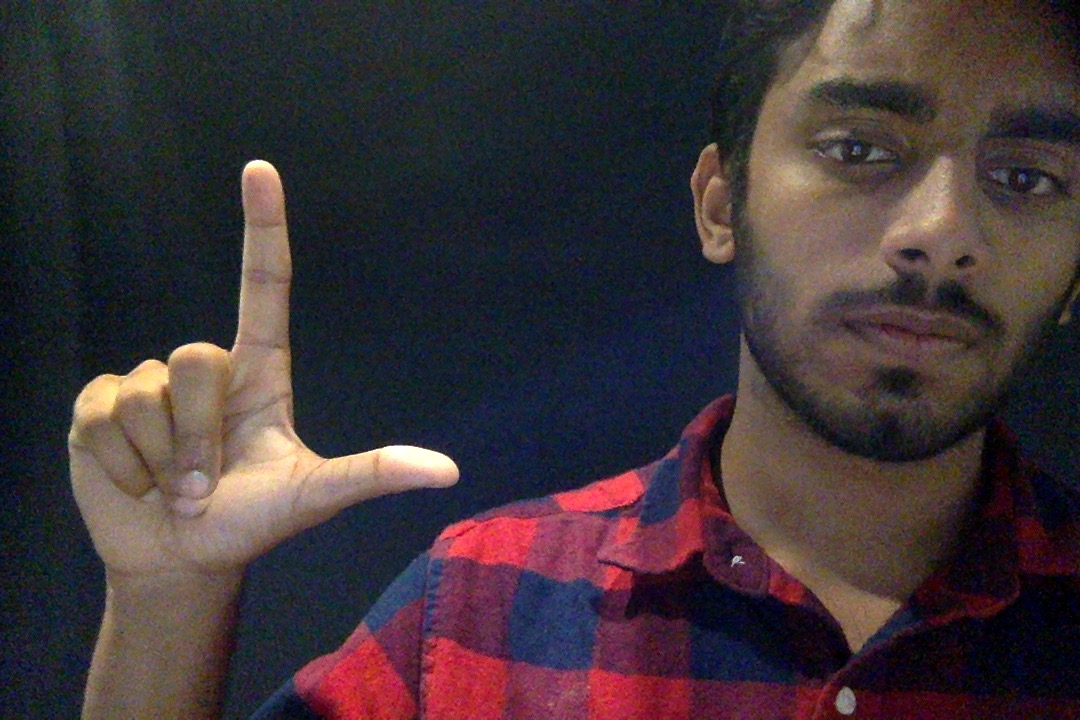l: (51, 138, 472, 628)
